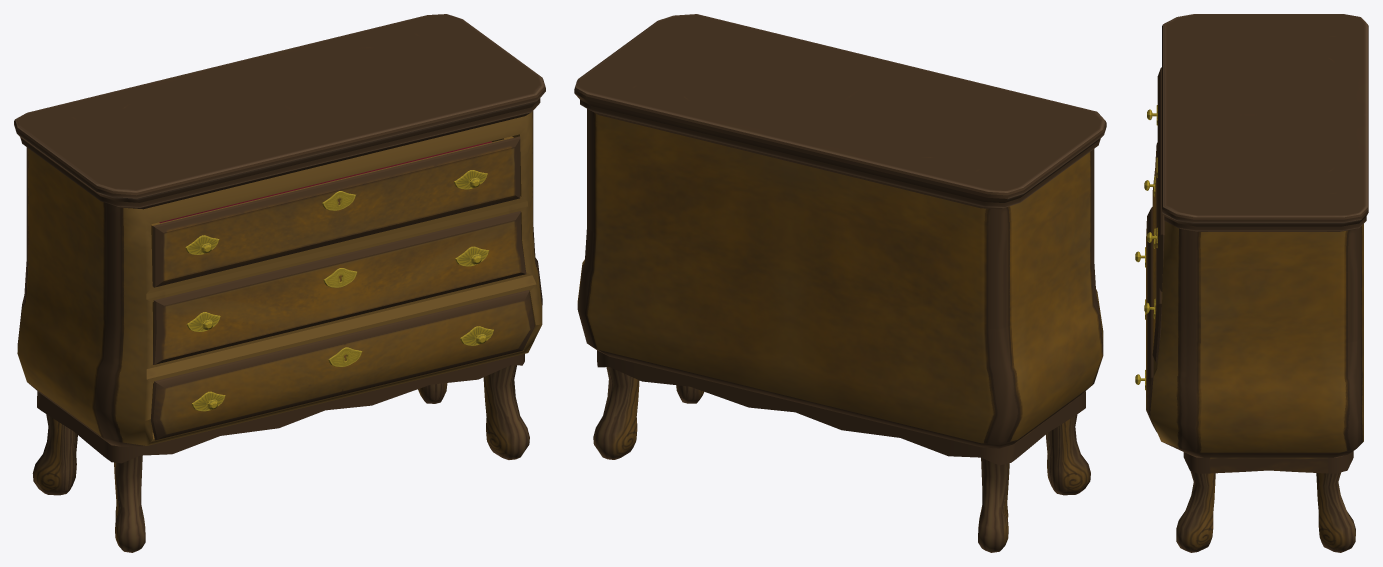
The model's file is Dresser_InteractableDrawers.fbx.
3 renders of one model, left to right at view 1: azimuth 30°, elevation 25°; view 2: azimuth 150°, elevation 25°; view 3: azimuth 270°, elevation 25°, orthographic. The views are drawn at different scales.
Parts seen in each view (by area): view 1: DresserBody, Drawer2, Drawer1, Drawer3, DresserTrimming, DresserLeg2, DresserLeg1, DresserLeg4; view 2: DresserBody, DresserTrimming, DresserLeg3, DresserLeg1, DresserLeg4; view 3: DresserBody, DresserTrimming, DresserLeg2, DresserLeg3, Drawer3, Drawer2, Drawer1.
Boxes of the visible parts, <box> form: DresserBody: <box>14,14,545,446</box>; Drawer2: <box>152,211,526,364</box>; Drawer1: <box>151,136,520,287</box>; Drawer3: <box>151,290,534,440</box>; DresserTrimming: <box>37,354,524,463</box>; DresserLeg2: <box>483,365,529,459</box>; DresserLeg1: <box>114,455,145,552</box>; DresserLeg4: <box>32,414,77,495</box>; DresserBody: <box>574,14,1106,448</box>; DresserTrimming: <box>597,350,1085,465</box>; DresserLeg3: <box>593,367,639,459</box>; DresserLeg1: <box>1046,414,1090,495</box>; DresserLeg4: <box>978,458,1009,552</box>; DresserBody: <box>1150,14,1368,457</box>; DresserTrimming: <box>1183,451,1353,473</box>; DresserLeg2: <box>1176,471,1215,552</box>; DresserLeg3: <box>1316,472,1355,552</box>; Drawer3: <box>1146,207,1156,431</box>; Drawer2: <box>1152,142,1161,362</box>; Drawer1: <box>1157,67,1164,291</box>.
Size of the model in its own units: 2.17 by 1.72 by 1.04.
